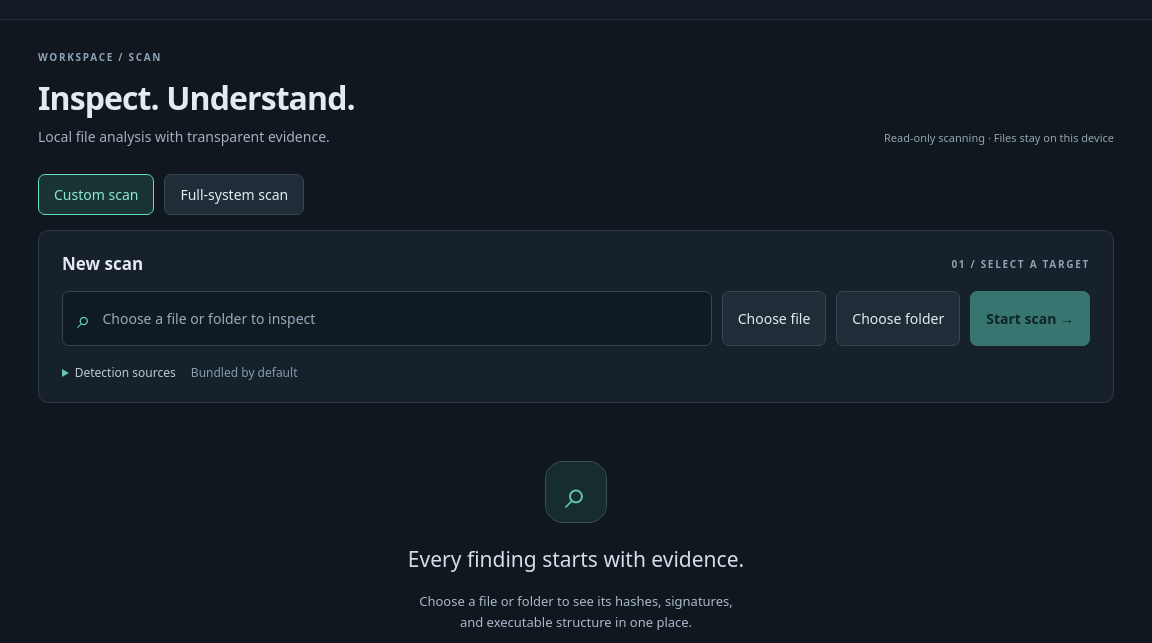
it: desktop scan workflow › keeps positive evidence visible when the report is partial
Click the button "Choose folder" at point(898, 319), box top-left (836, 291), bottom-right (960, 346)
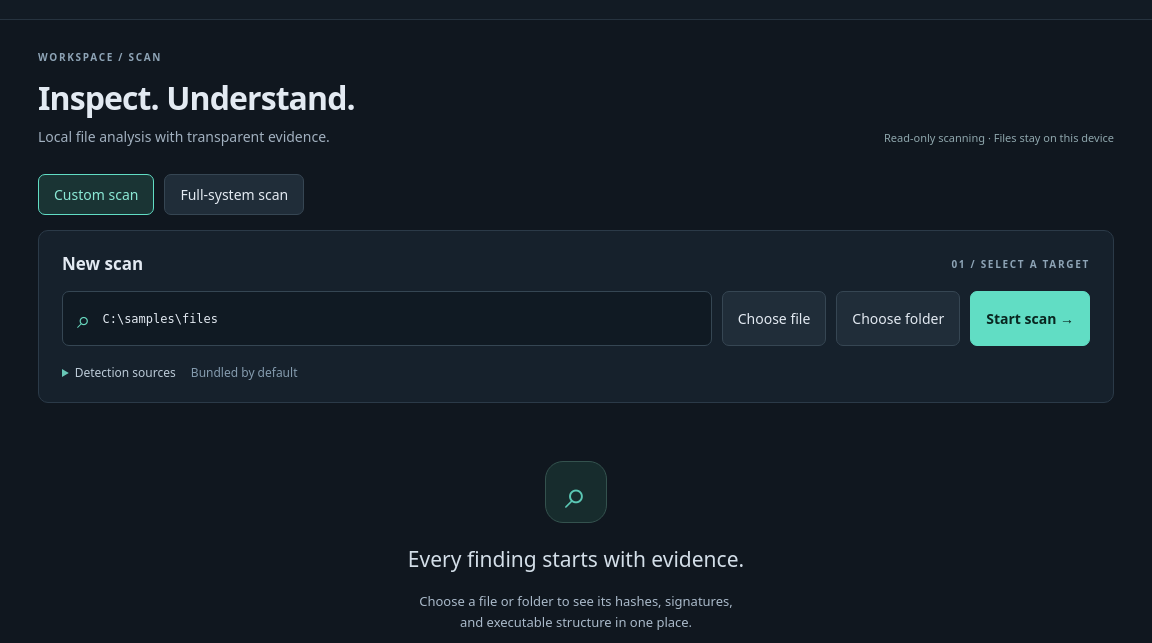
Click the button "Start scan →" at point(1030, 319), box top-left (970, 291), bottom-right (1090, 346)
(page scrolled)
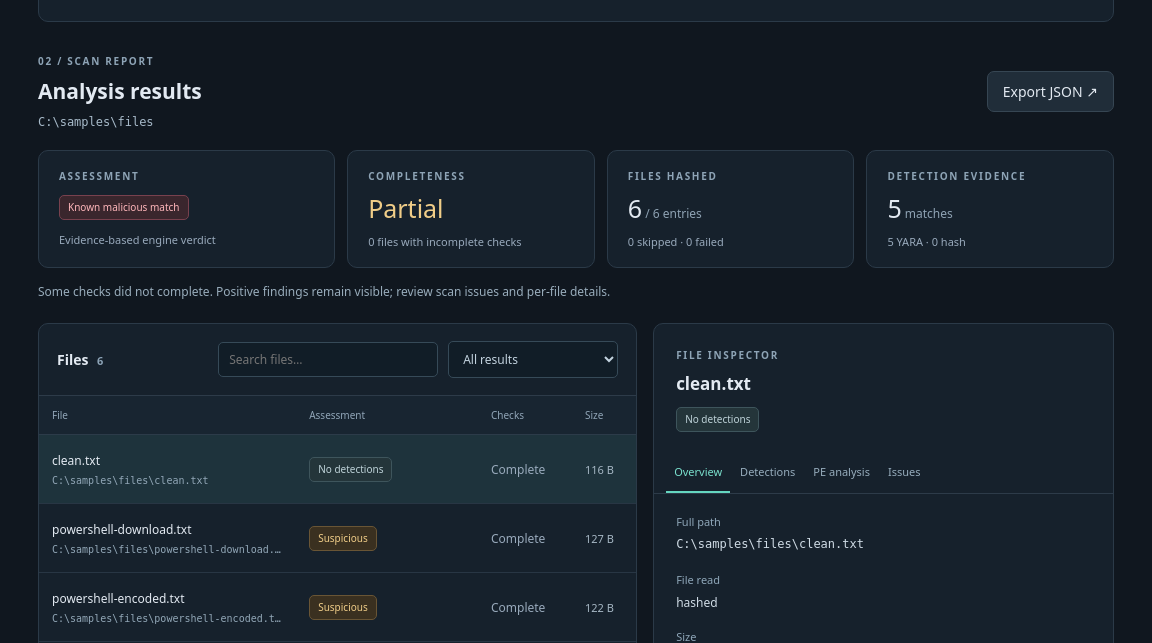
Expected: the heading "Analysis results" is shown, top-left (38, 77), bottom-right (202, 105)
Expected: the text "partial" is shown, top-left (368, 195), bottom-right (444, 222)
Expected: the text "Known malicious match" is shown, top-left (59, 195), bottom-right (188, 220)
